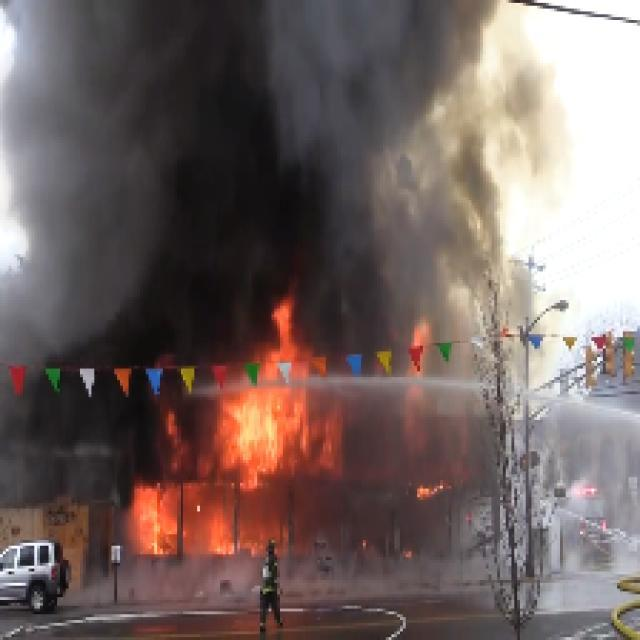Fire: (183, 319, 360, 547)
Smoke: (29, 0, 509, 314)
